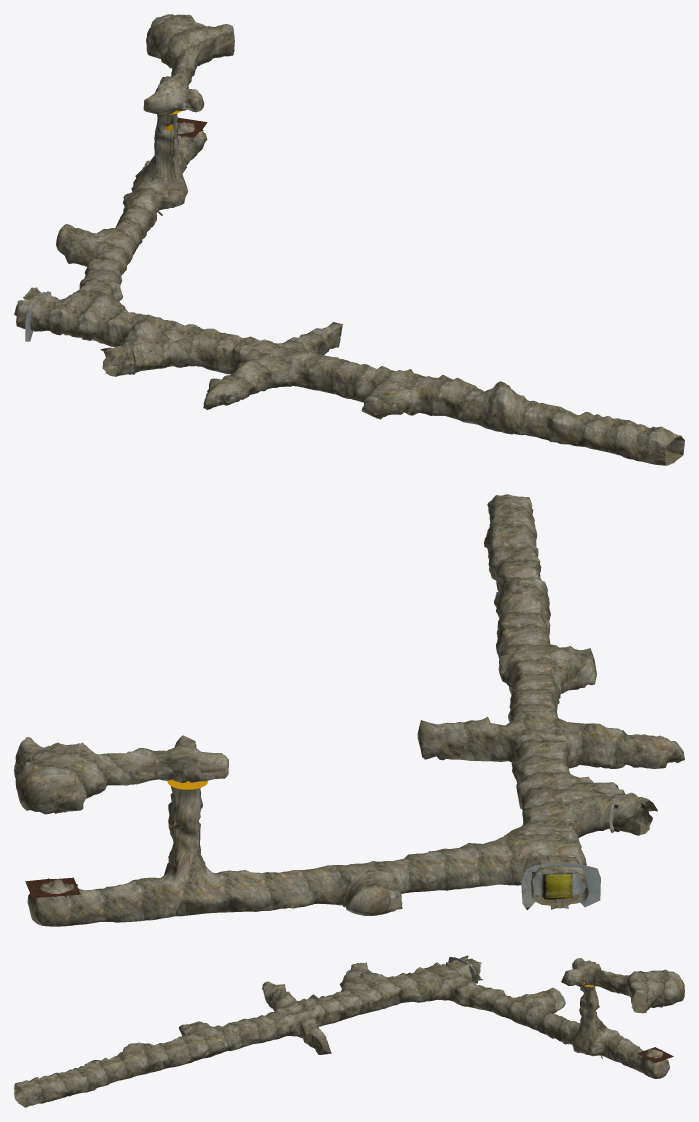
The model's file is Edgar_Section_07.DAE.
3 renders of one model, top to bottom at view 1: azimuth 30°, elevation 25°; view 2: azimuth 150°, elevation 25°; view 3: azimuth 270°, elevation 25°, orthographic. The views are drawn at different scales.
Parts seen in each view (by area): view 1: Section_07_Walls; view 2: Section_07_Walls, Section_07_Doors; view 3: Section_07_Walls, Section_07_Ground.
Boxes of the visible parts, <box> form: Section_07_Walls: <box>14,14,684,465</box>; Section_07_Walls: <box>14,494,684,926</box>; Section_07_Doors: <box>521,792,634,910</box>; Section_07_Walls: <box>14,955,684,1107</box>; Section_07_Ground: <box>16,983,669,1107</box>.
Size of the model in its own units: 4020 by 1552 by 8379.
Materials: 9 (9 with a texture image).
